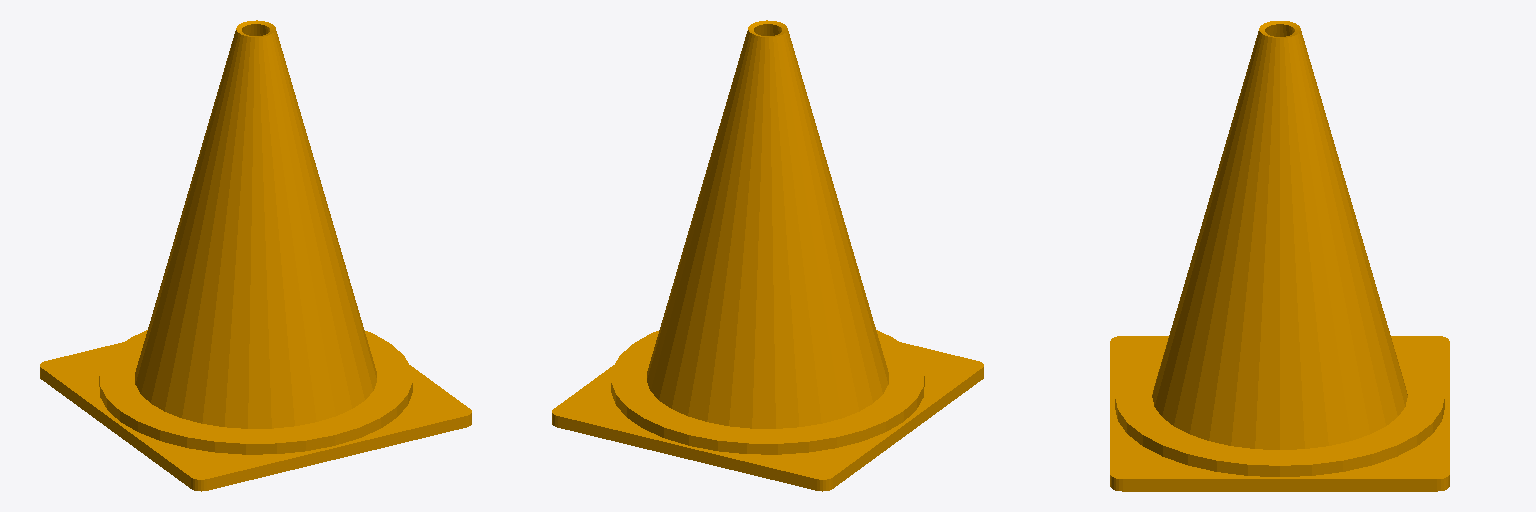
URDF robot description (small_blue_cone):
<?xml version="1.0" encoding="UTF-8"?>
<robot name="small_blue_cone">
  <joint name="joint_root-root_Camera_Camera" type="fixed">
    <origin xyz="7.3588915 -6.925791 4.958309 " rpy="1.109319 0. 0.8149282"/>
    <parent link="root"/>
    <child link="root_Camera_Camera"/>
  </joint>
  <link name="root">
    <visual>
      <origin xyz="0. 0. 0.013" rpy="0. 0. 0."/>
      <geometry>
        <mesh filename="meshes/Cylinder_001.obj" scale="1. 1. 1."/>
      </geometry>
    </visual>
  </link>
  <link name="root_Camera_Camera"/>
</robot>

--- Render facts (derived) ---
The picture shows the robot from 3 angles, left to right: view 1: azimuth 30°, elevation 25°; view 2: azimuth 150°, elevation 25°; view 3: azimuth 270°, elevation 25°; orthographic projection.
Robot: small_blue_cone — 2 links, 1 joints (1 fixed); root link root; default pose: every joint at zero.
Visible links, largest first — view 1: root; view 2: root; view 3: root.
Link boxes in pixels (x1=…): root: x1=40, y1=20, x2=471, y2=491; root: x1=552, y1=20, x2=983, y2=491; root: x1=1110, y1=21, x2=1449, y2=491.
Bounding box of the posed robot: 0.228 × 0.228 × 0.2896 m (x, y, z).
1 mesh visuals loaded from 1 distinct referenced files (1 OBJ).